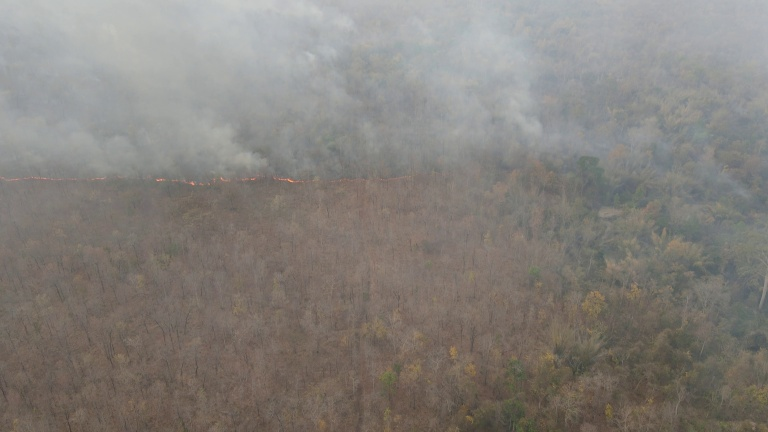fire: (2, 170, 450, 188)
smoke: (2, 1, 575, 180), (588, 1, 760, 206)
